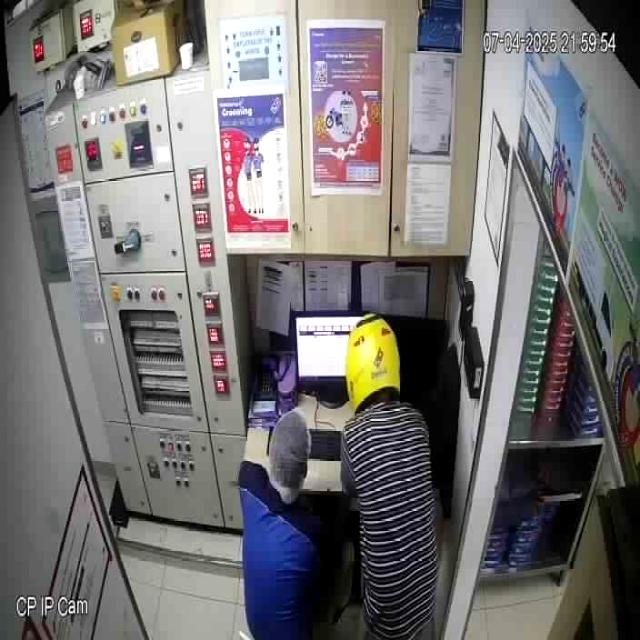helmet: (345, 312, 401, 414)
no_helmet: (265, 407, 311, 506)
